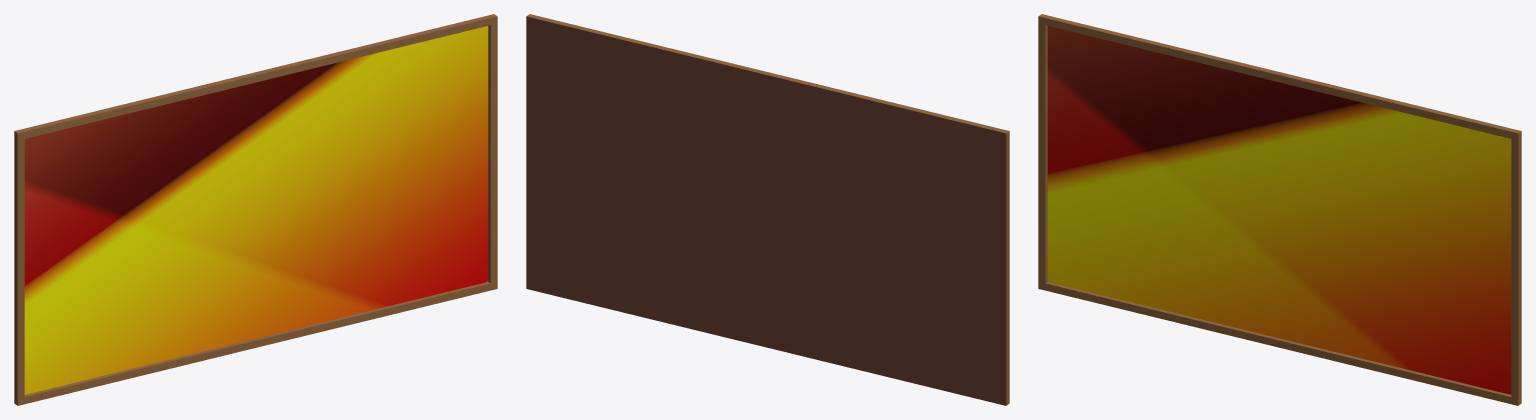
Rendered from FurnAcc_PaintingLargeV2.fbx.
3 renders of one model, left to right at view 1: azimuth 30°, elevation 25°; view 2: azimuth 150°, elevation 25°; view 3: azimuth 330°, elevation 25°, orthographic.
Parts seen in each view (by area): view 1: FurnAcc_PaintingLargeV2; view 2: FurnAcc_PaintingLargeV2; view 3: FurnAcc_PaintingLargeV2.
Boxes of the visible parts, x1,y1,x2,y2 form: FurnAcc_PaintingLargeV2: (14, 14, 497, 405); FurnAcc_PaintingLargeV2: (526, 14, 1009, 405); FurnAcc_PaintingLargeV2: (1038, 14, 1521, 405).
Size of the model in its own units: 140 by 76 by 1.68.
